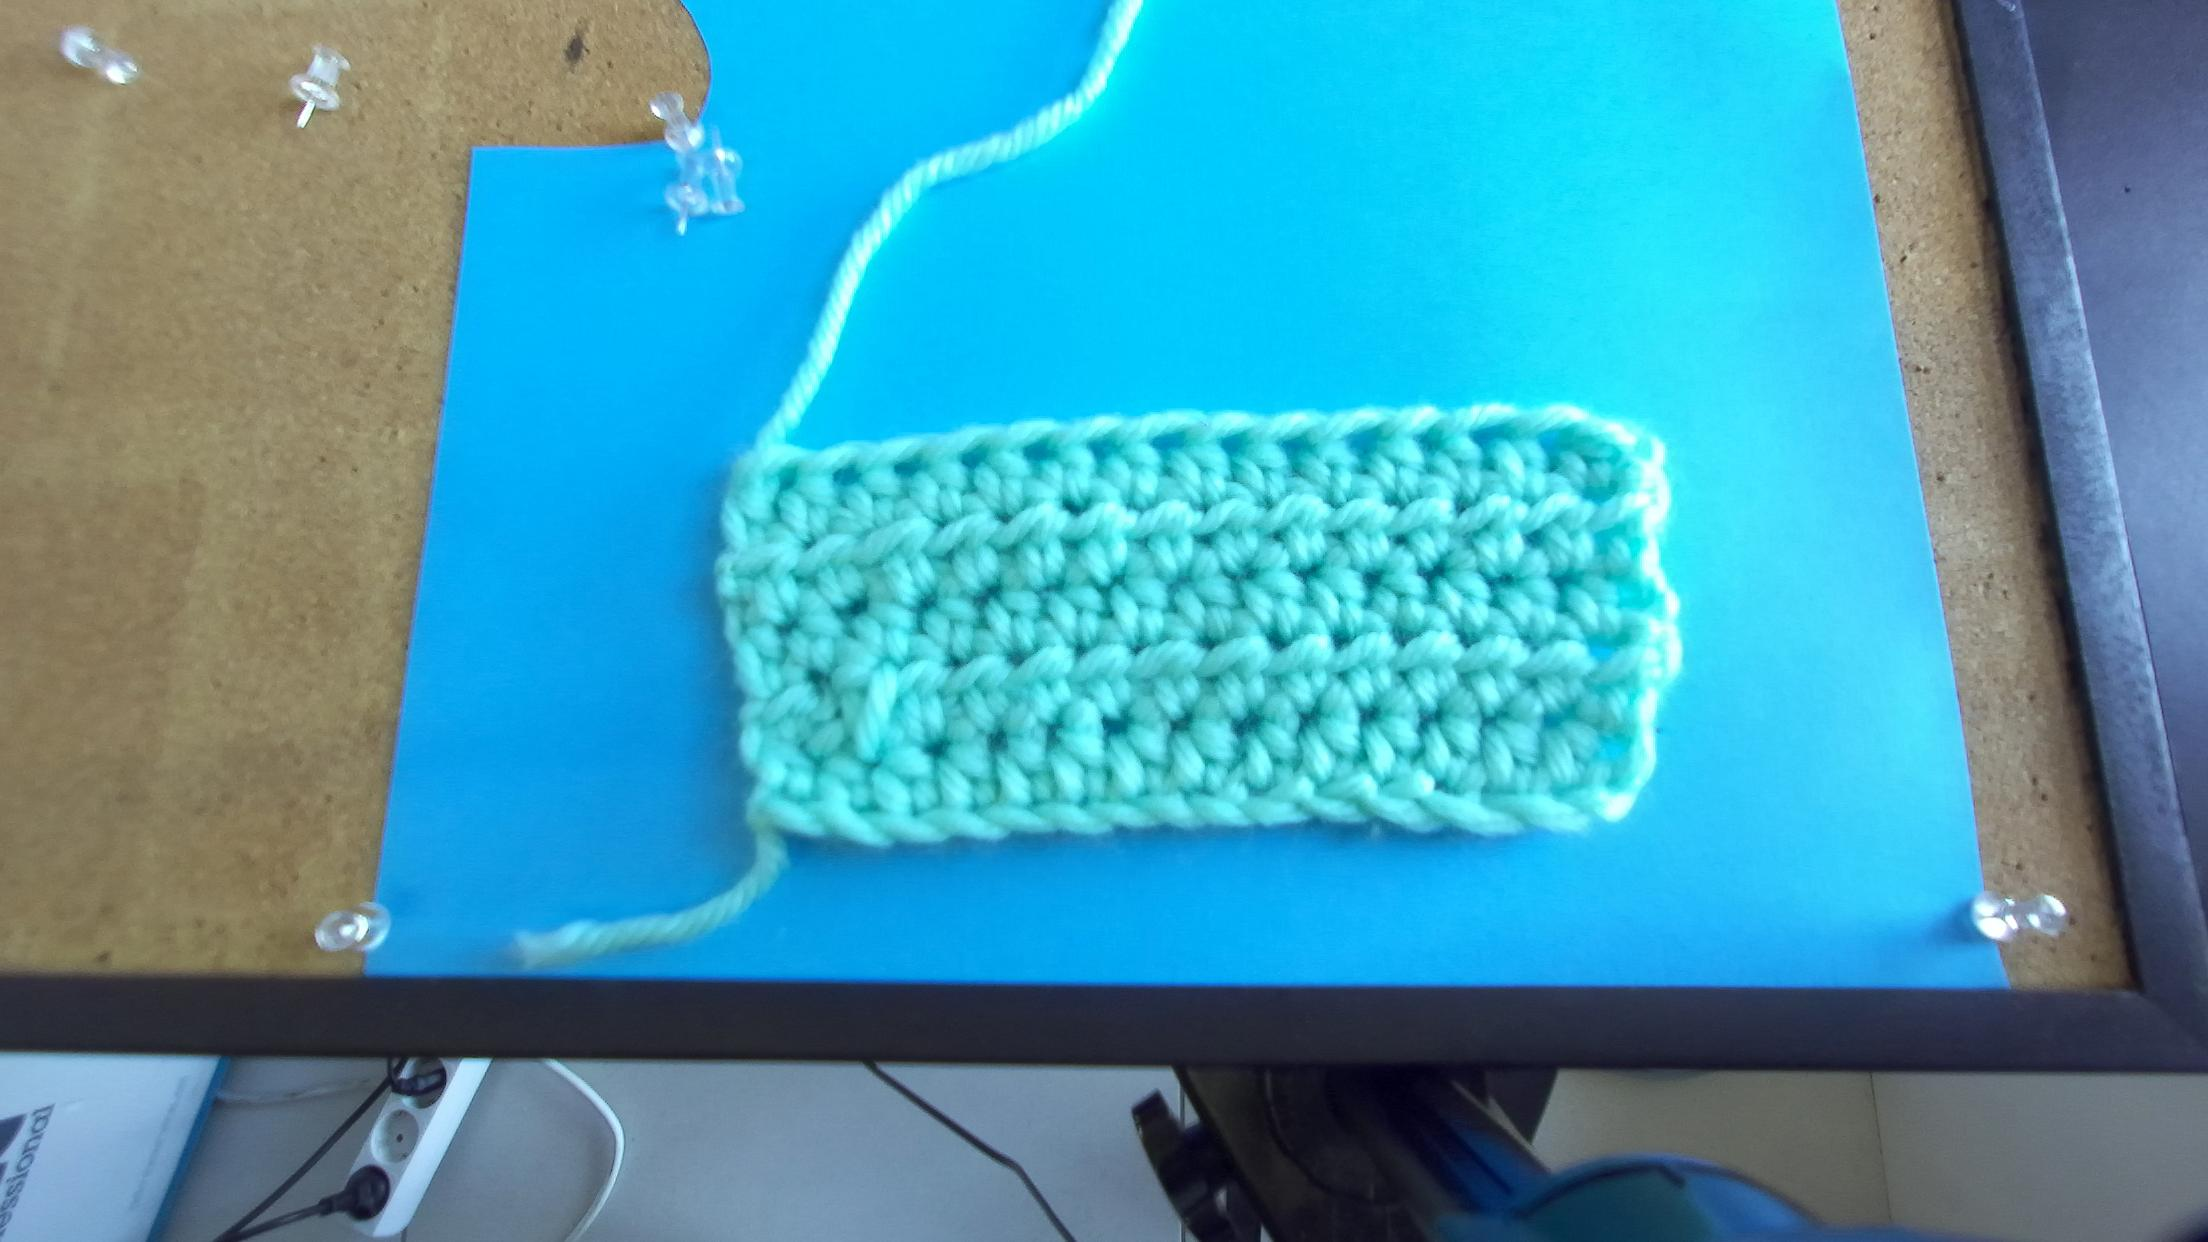hole: (1341, 426, 1382, 453), (1084, 432, 1119, 464), (1274, 431, 1310, 456), (893, 452, 927, 479), (1469, 423, 1504, 447), (1149, 431, 1189, 452), (1410, 431, 1442, 455), (831, 463, 861, 487), (1024, 438, 1055, 461), (1219, 432, 1253, 453), (1536, 432, 1568, 453), (778, 466, 799, 494), (963, 444, 987, 469)
swatch: (720, 403, 1680, 855)
